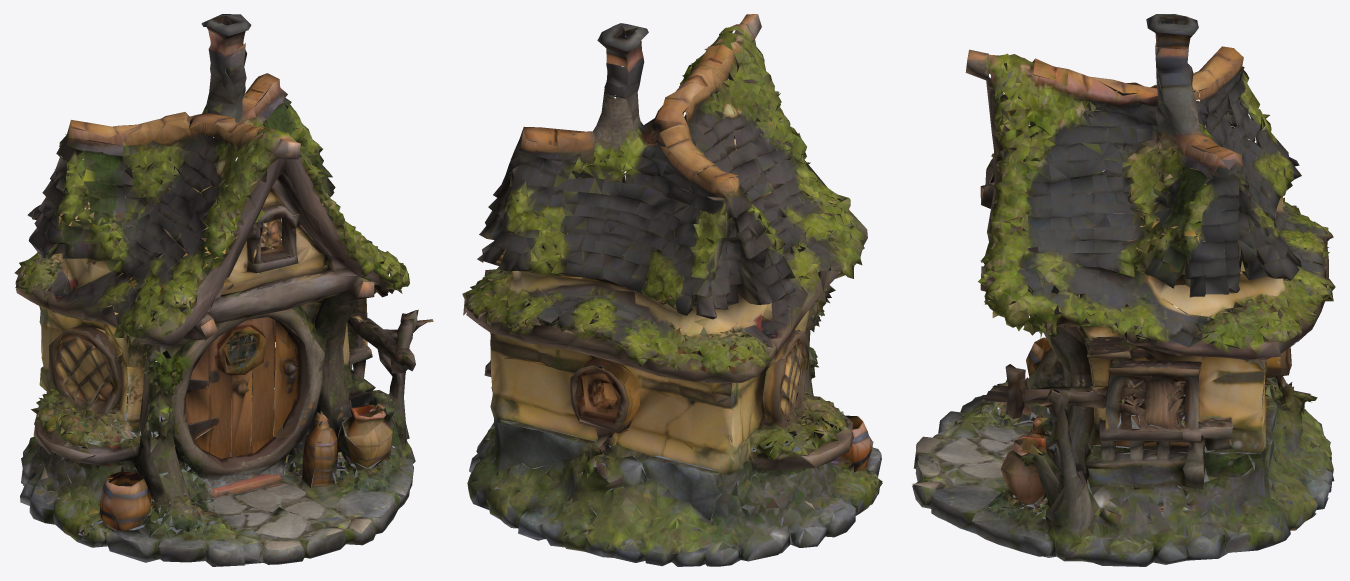
The model's file is Whimsical_Hobbit_Dwel_town.glb.
The picture shows the model from 3 angles, left to right: view 1: azimuth 30°, elevation 25°; view 2: azimuth 150°, elevation 25°; view 3: azimuth 270°, elevation 25°; orthographic projection. The views are drawn at different scales.
Parts seen in each view (by area): view 1: Whimsical_Hobbit_Dwel; view 2: Whimsical_Hobbit_Dwel; view 3: Whimsical_Hobbit_Dwel.
Part boxes in pixels (x1,y1,x2,y2): Whimsical_Hobbit_Dwel: (14,14,433,566); Whimsical_Hobbit_Dwel: (462,14,882,566); Whimsical_Hobbit_Dwel: (912,14,1335,566).
Size of the model in its own units: 1.58 by 1.91 by 1.54.
Materials: 1 (1 with a texture image).
